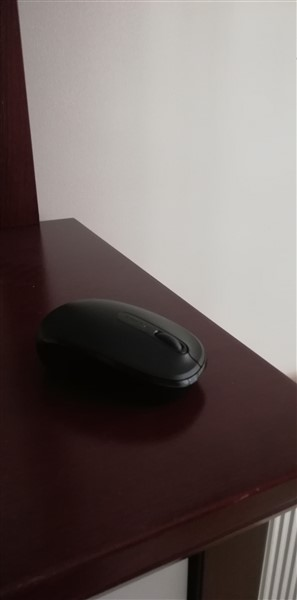mouse: (34, 292, 221, 400)
